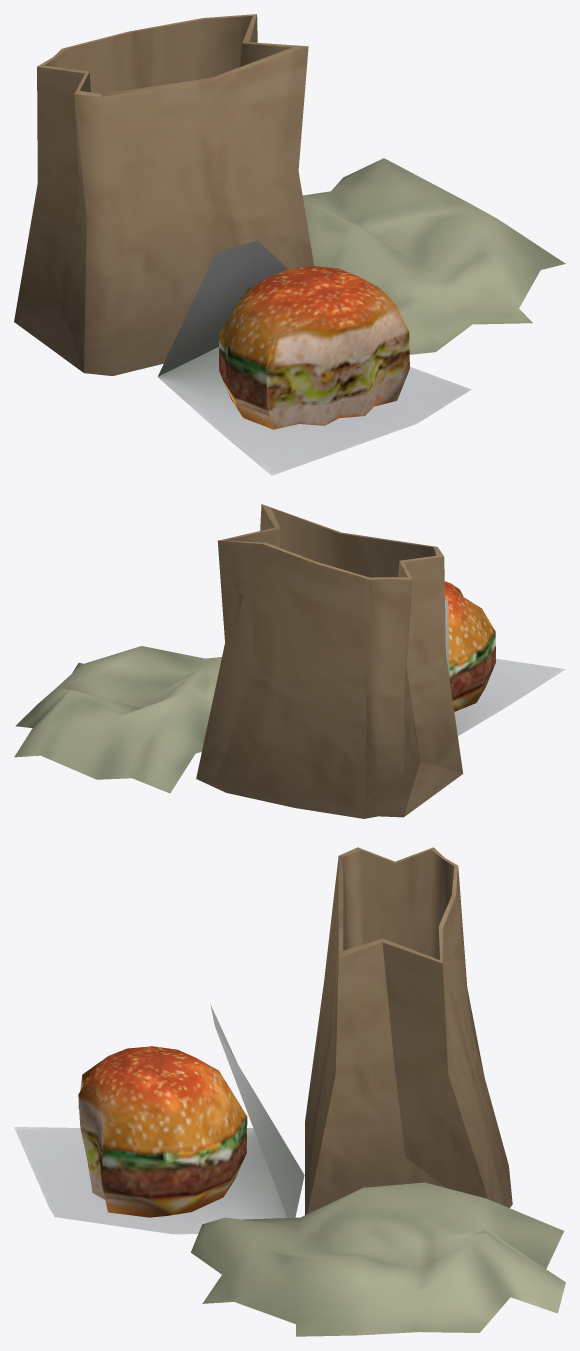
File: PiErSenGongYu_01_hanbao_01.FBX
The picture shows the model from 3 angles, top to bottom: view 1: azimuth 30°, elevation 25°; view 2: azimuth 150°, elevation 25°; view 3: azimuth 270°, elevation 25°; orthographic projection. The views are drawn at different scales.
Visible parts, largest first — view 1: PiErSenDeGongYu_hanbao_01; view 2: PiErSenDeGongYu_hanbao_01; view 3: PiErSenDeGongYu_hanbao_01.
Part boxes in pixels (x1=…): PiErSenDeGongYu_hanbao_01: x1=14, y1=14, x2=565, y2=475; PiErSenDeGongYu_hanbao_01: x1=14, y1=504, x2=565, y2=818; PiErSenDeGongYu_hanbao_01: x1=14, y1=847, x2=565, y2=1336.
Bounding box in the file's own units: 155 × 88.27 × 157.
